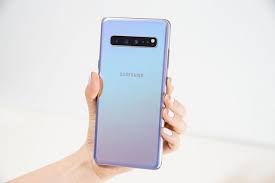samsung: (84, 11, 172, 169)
